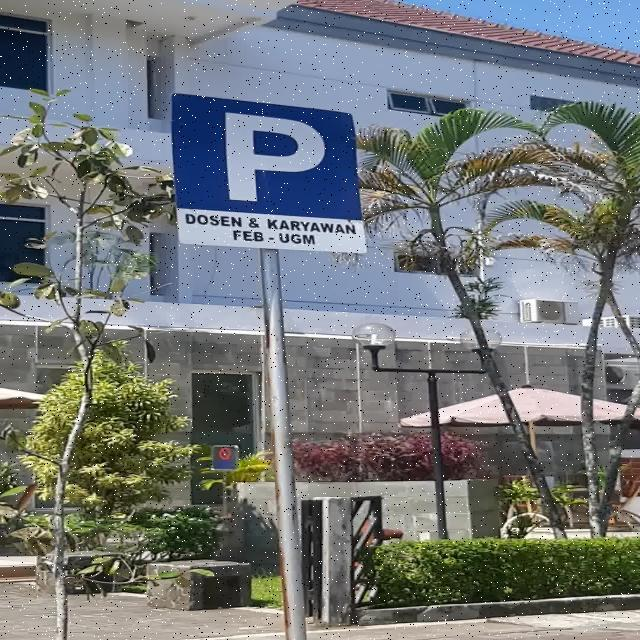Tempat Parkir: (170, 93, 368, 254)
